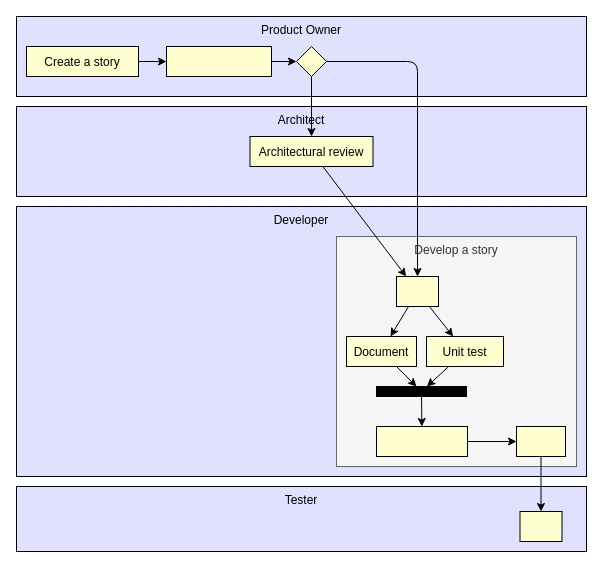
Some shapes in this 603 by 568 pixel diagram are drawn without their labels. Here are the shapes that lost their labels. From the top down, the centre of each, then its label:
At (x=219, y=61): "Groom a story".
At (x=417, y=291): "Code".
At (x=422, y=441): "Peer review".
At (x=541, y=441): "Build".
At (x=540, y=526): "Test".
